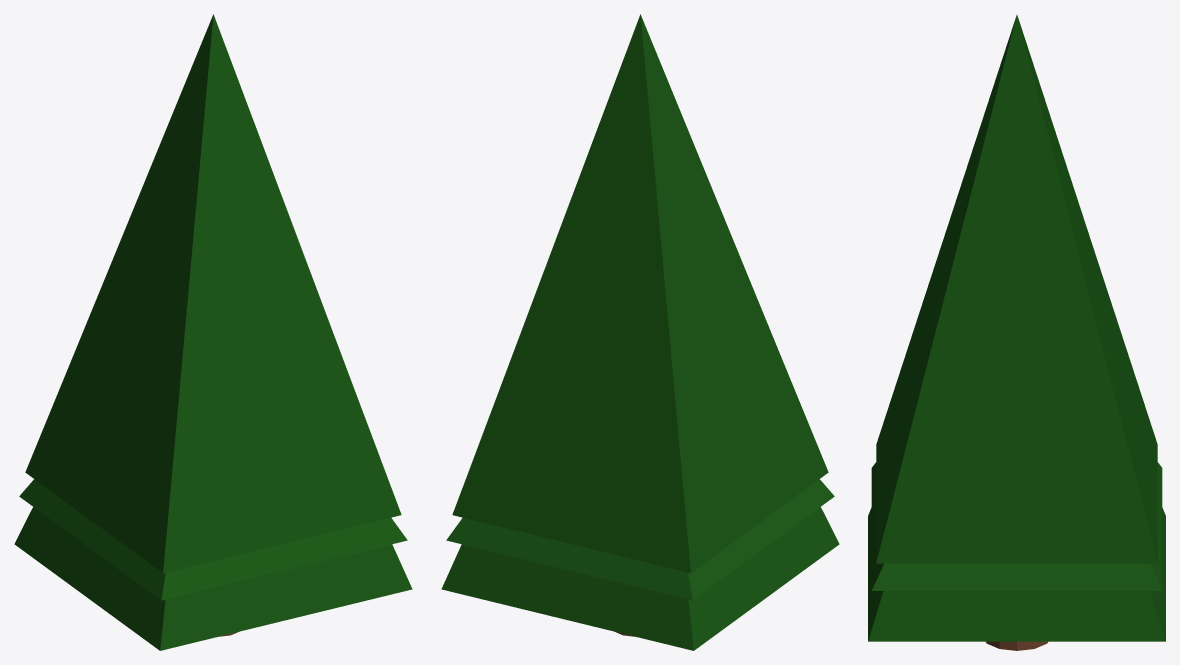
Rendered from Tree_34_autumn_vc.fbx.
3 renders of one model, left to right at view 1: azimuth 30°, elevation 25°; view 2: azimuth 150°, elevation 25°; view 3: azimuth 270°, elevation 25°, orthographic. The views are drawn at different scales.
Parts seen in each view (by area): view 1: Tree_34_autumn_vc; view 2: Tree_34_autumn_vc; view 3: Tree_34_autumn_vc.
Boxes of the visible parts, bbox=[...] form: Tree_34_autumn_vc: bbox=[14, 14, 412, 650]; Tree_34_autumn_vc: bbox=[441, 14, 839, 650]; Tree_34_autumn_vc: bbox=[868, 15, 1165, 650].
Bounding box in the file's own units: 2.18 × 5.02 × 2.18.
